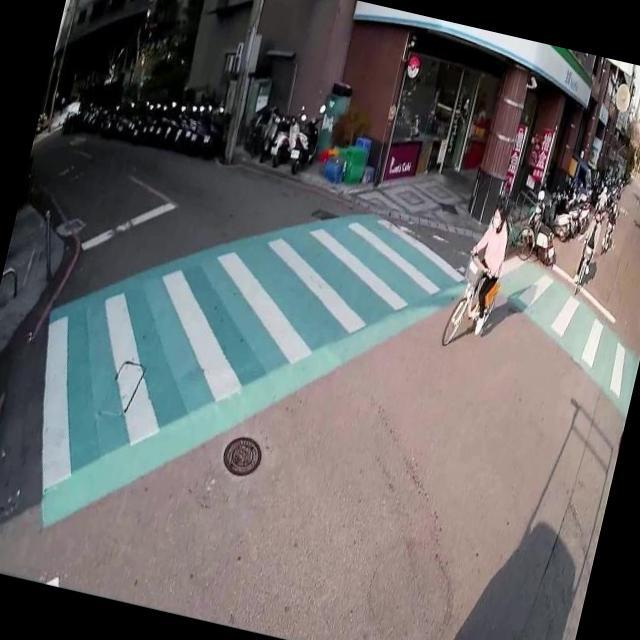person: (448, 197, 518, 341), (571, 206, 605, 286), (600, 200, 620, 247)
